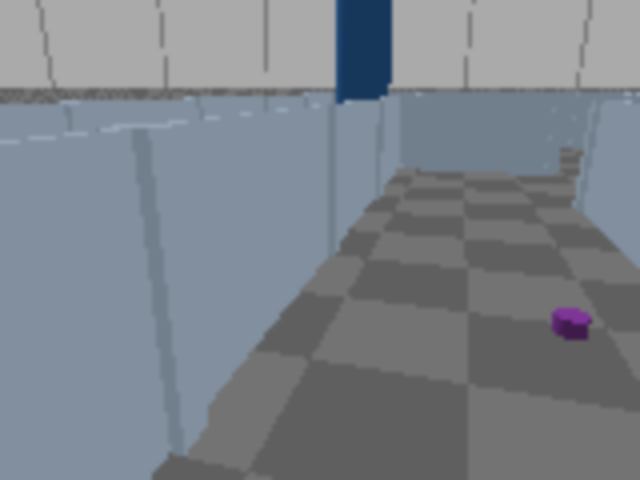puck: (552, 308, 591, 340)
